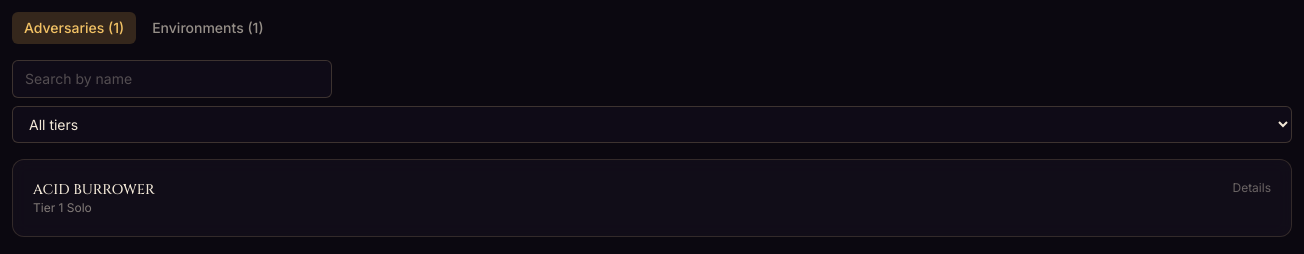
Test: BestiaryPage › switches to the Environments tab
The image size is (1304, 254).
expect the heading "ACID BURROWER" is shown: met, box [33, 180, 155, 200]
Click the button "Environments (1)": (208, 28) [140, 12, 276, 44]
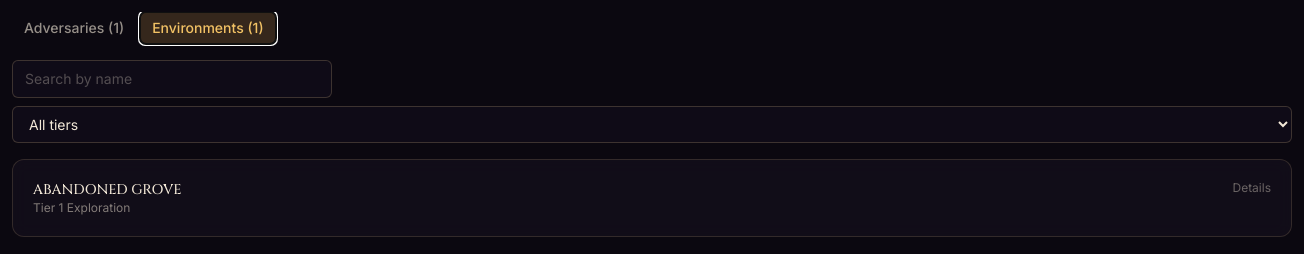
expect the heading "ABANDONED GROVE" is shown: met, box [33, 180, 182, 200]
expect the button "ACID BURROWER" is gone: met
